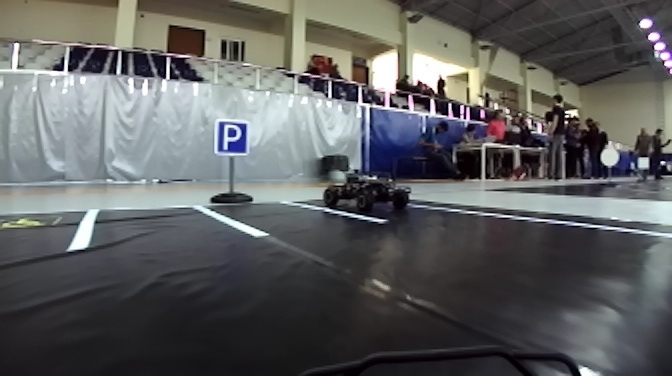park: (212, 115, 251, 158)
